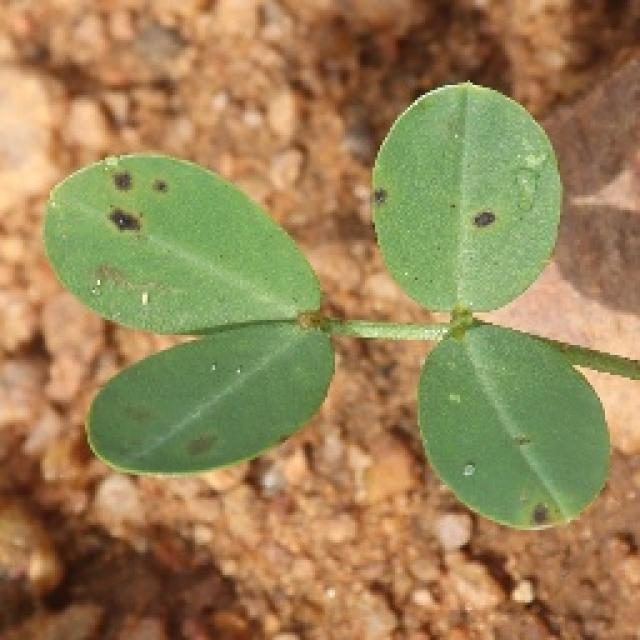Yellowish: (325, 134, 510, 261), (442, 403, 581, 540), (129, 384, 305, 479), (80, 132, 202, 264)
